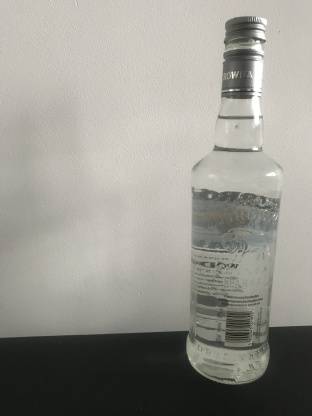nakretka: (220, 13, 268, 98)
